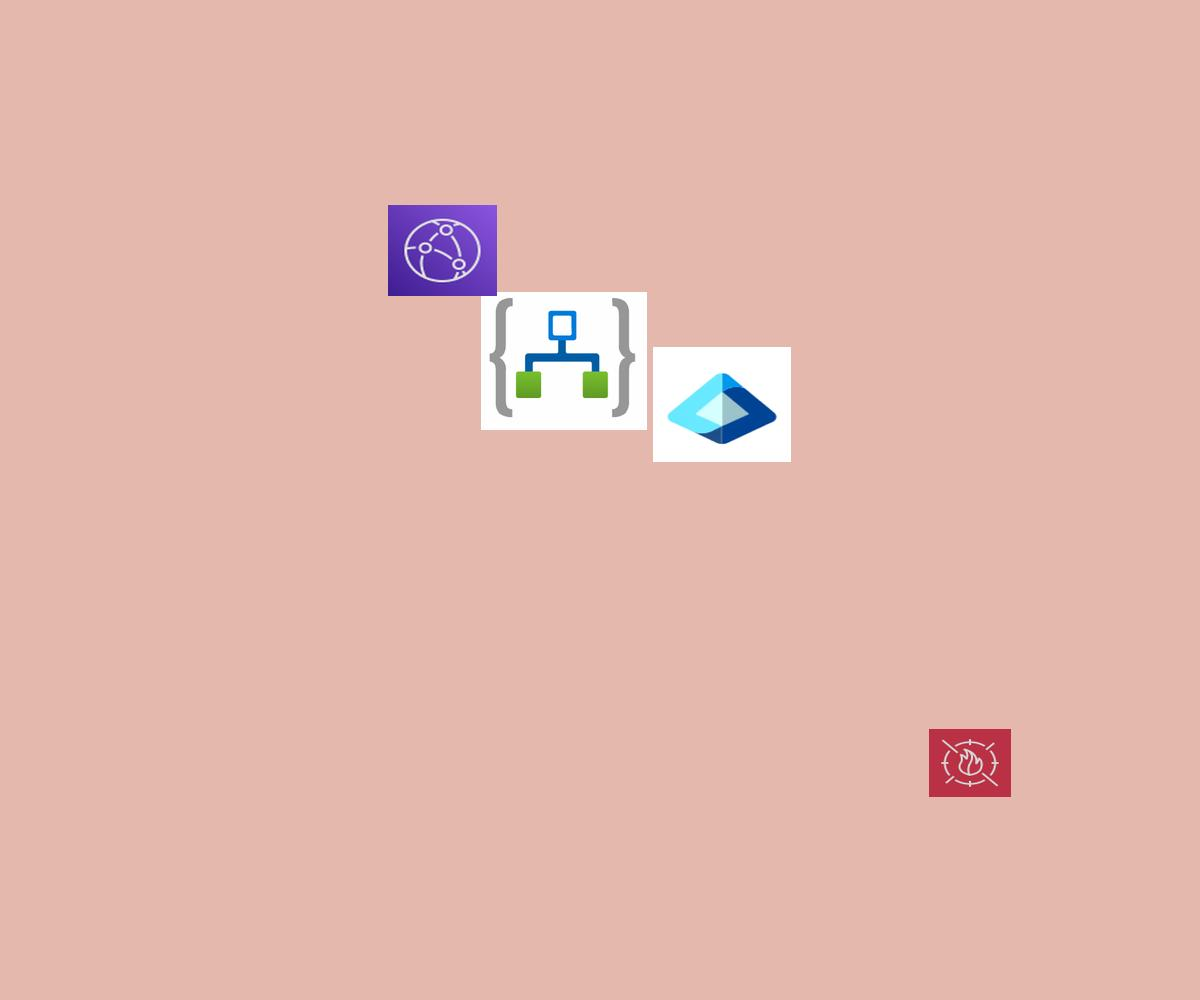AWS-CloudFront: (388, 205, 497, 296)
AWS-WAF: (929, 729, 1011, 797)
Azure_integration-204-Logic-Apps: (481, 292, 647, 430)
Azure_microsoft_entra: (653, 347, 791, 462)
